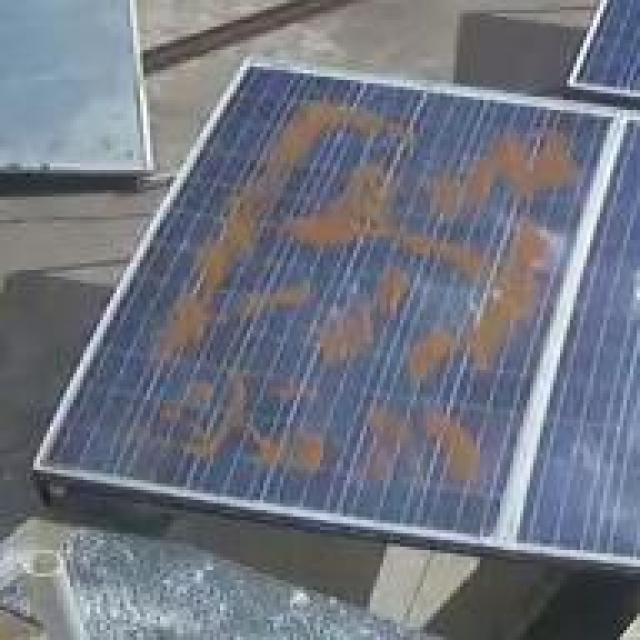Anomaly Solar Panel: (36, 0, 613, 589)
Snow: (568, 417, 640, 542), (623, 262, 640, 324)
Surface Contaminant: (137, 65, 419, 408), (284, 143, 501, 279), (409, 109, 587, 238), (160, 356, 347, 477), (449, 213, 566, 377), (299, 255, 427, 377), (351, 399, 482, 497), (391, 316, 463, 395)
